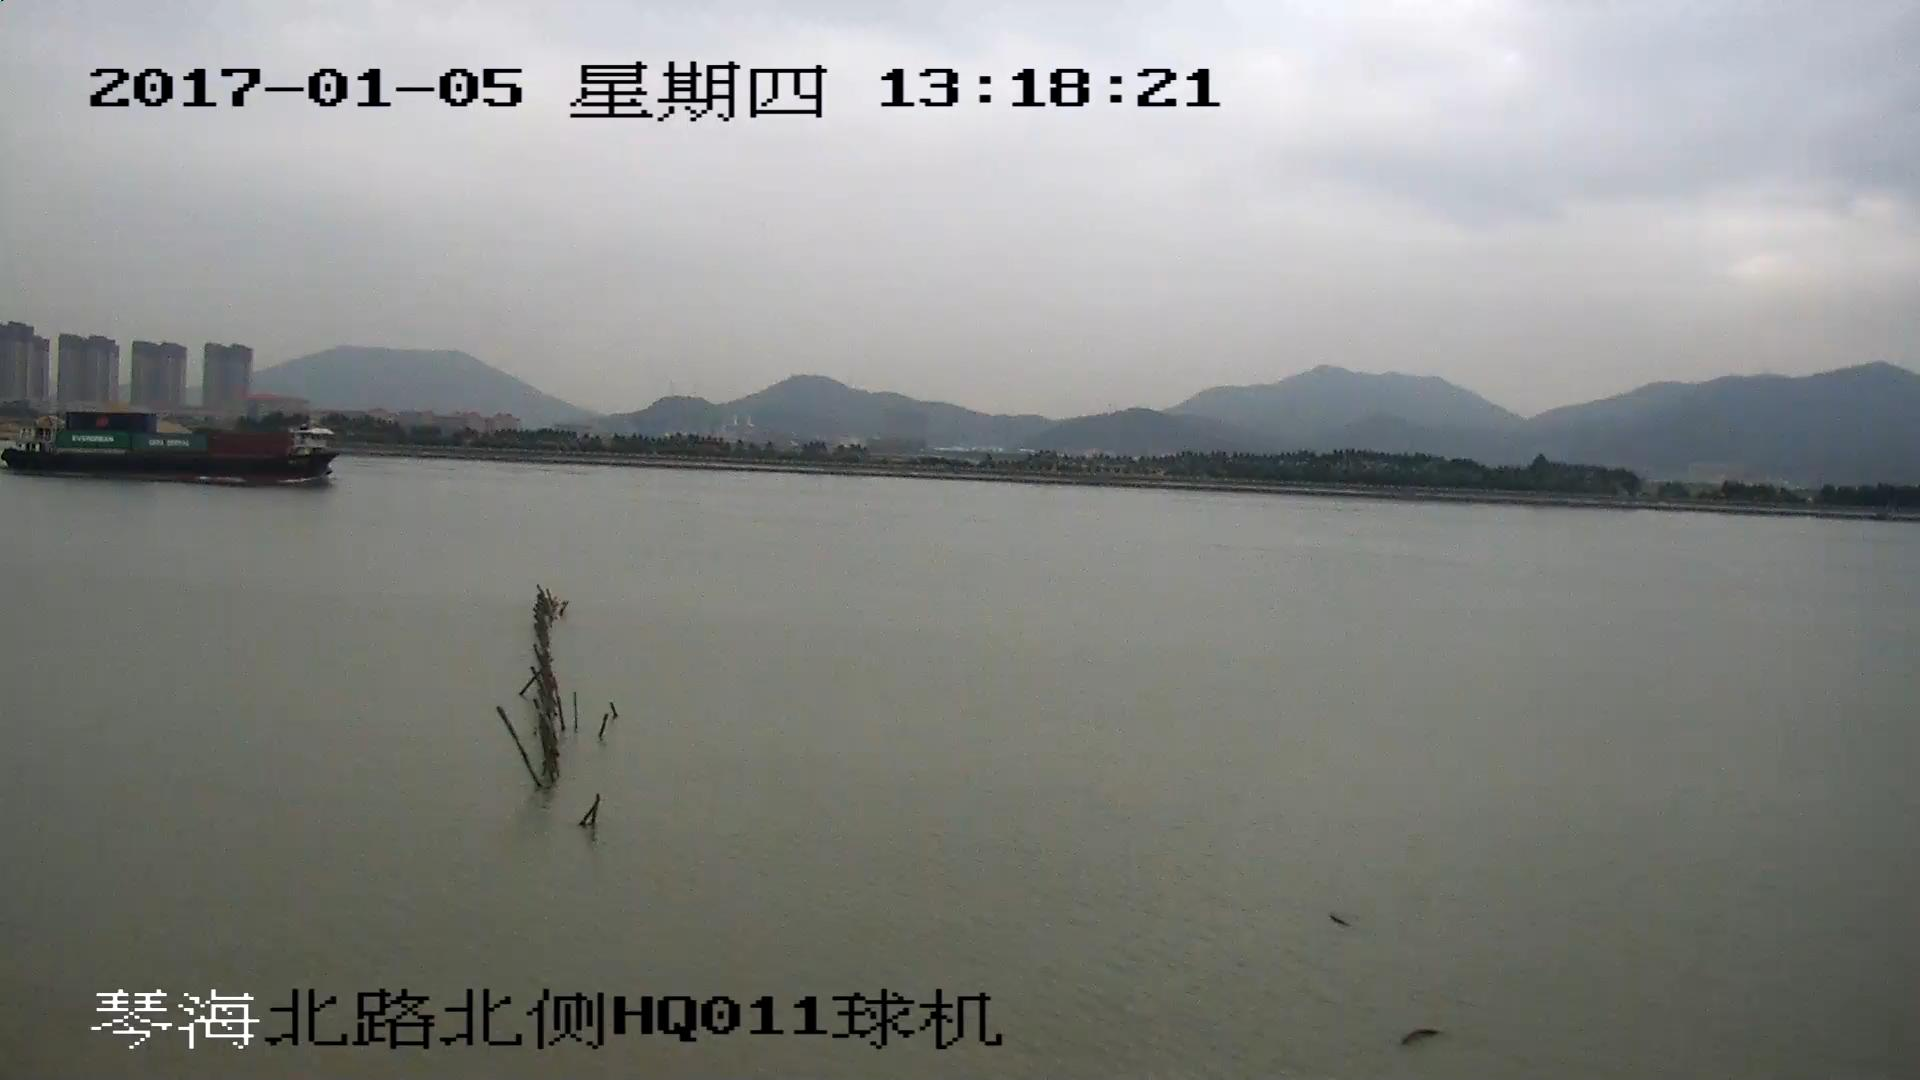container ship: (1, 410, 337, 482)
